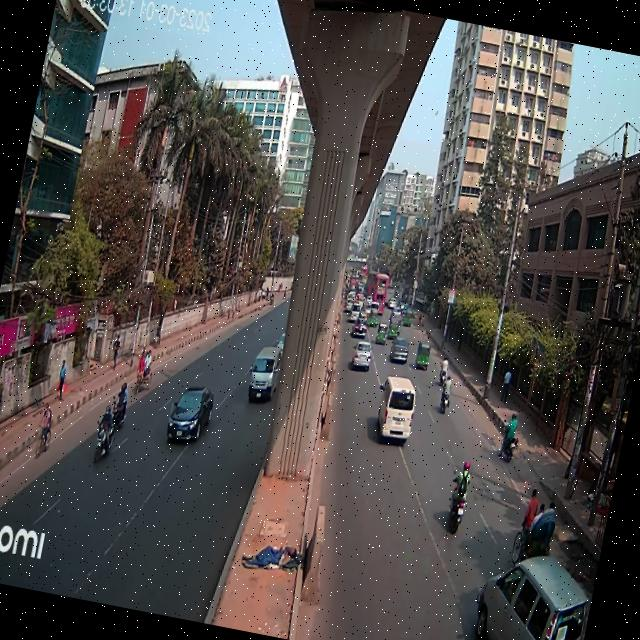cng: (410, 336, 437, 378), (372, 320, 390, 348)
rikshaw: (132, 344, 157, 396)
